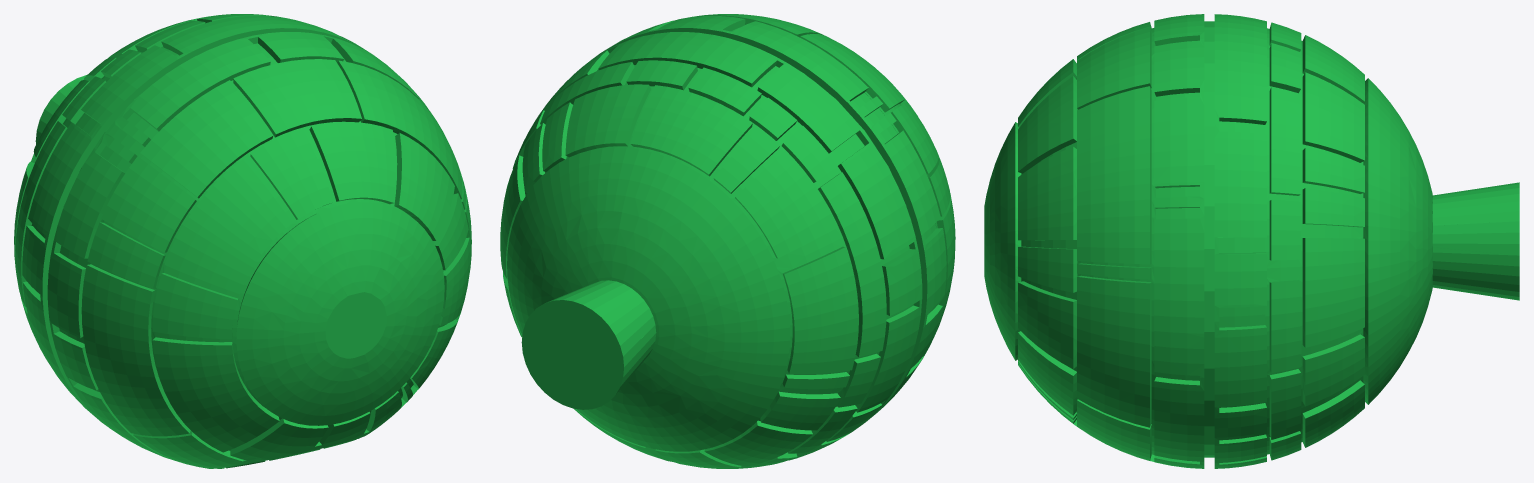
Rendered from death_star.obj.
3 views of the same model, side by side, from view 1: azimuth 30°, elevation 25°; view 2: azimuth 150°, elevation 25°; view 3: azimuth 270°, elevation 25° (orthographic).
Visible parts, largest first — view 1: Object.1; view 2: Object.1; view 3: Object.1.
Boxes of the visible parts, x1,y1,x2,y2 form: Object.1: (14,14,471,468); Object.1: (500,14,955,468); Object.1: (984,14,1519,468).
Bounding box in the file's own units: 99.97 × 99.97 × 118.
